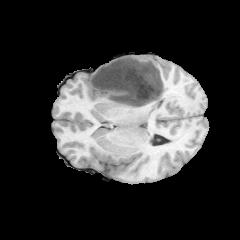glioma: (89, 55, 168, 109)
